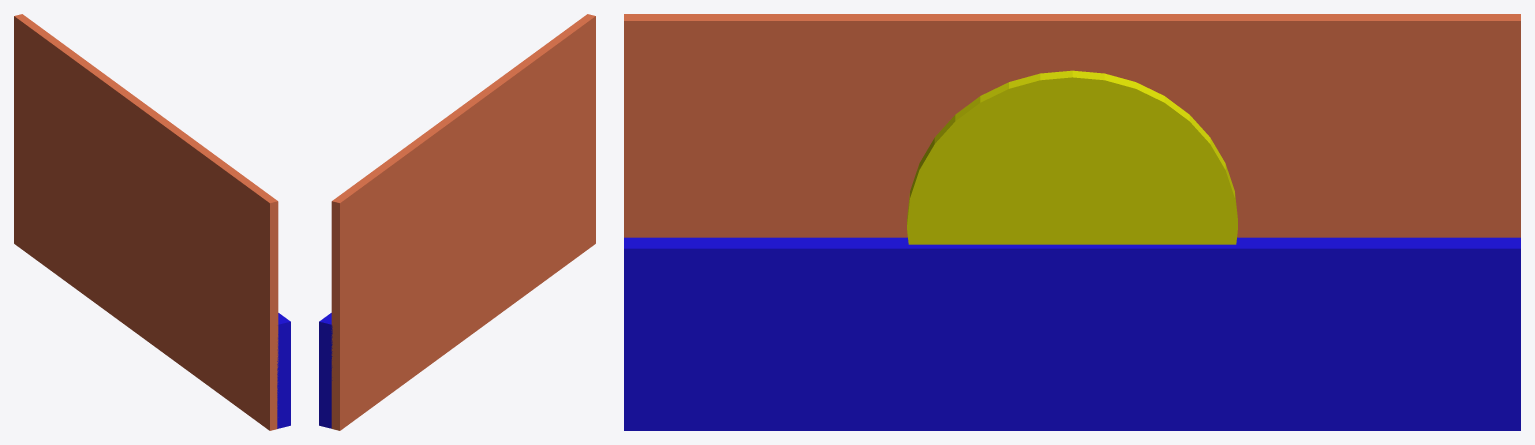
Rendered from Sunset.fbx.
3 views of the same model, side by side, from view 1: azimuth 30°, elevation 25°; view 2: azimuth 150°, elevation 25°; view 3: azimuth 270°, elevation 25° (orthographic). The views are drawn at different scales.
Visible parts, largest first — view 1: Cube, Cube.001; view 2: Cube, Cube.001; view 3: Cube.001, Cube, Cylinder.
Part boxes in pixels (x1,y1,x2,y2): Cube: (14,14,278,430); Cube.001: (277,313,290,428); Cube: (331,14,595,430); Cube.001: (319,313,332,428); Cube.001: (624,237,1520,430); Cube: (624,14,1520,237); Cylinder: (907,70,1237,244).
Bounding box in the file's own units: 43.88 × 455 × 926.
